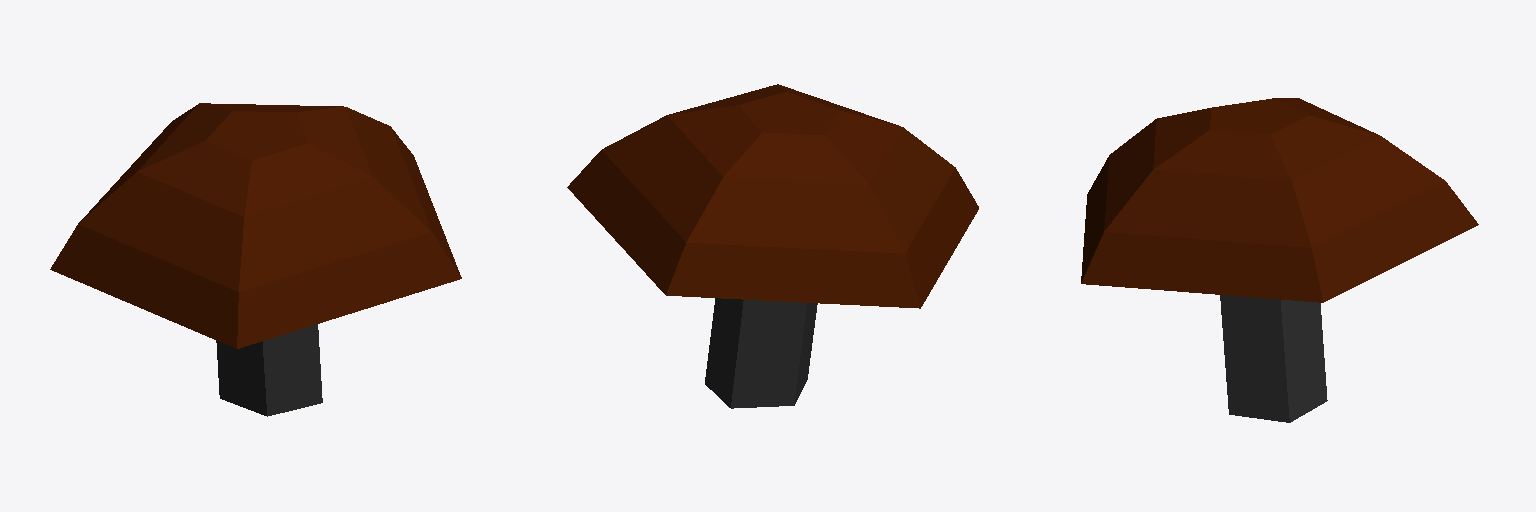
Rendered from mushroom.obj.
3 renders of one model, left to right at view 1: azimuth 30°, elevation 25°; view 2: azimuth 150°, elevation 25°; view 3: azimuth 270°, elevation 25°, orthographic.
Visible parts, largest first — view 1: mushroom; view 2: mushroom; view 3: mushroom.
Part boxes in pixels (bbox=[...]): mushroom: bbox=[50, 103, 461, 416]; mushroom: bbox=[567, 84, 978, 408]; mushroom: bbox=[1081, 98, 1478, 422].
Size of the model in its own units: 0.1257 by 0.0927 by 0.1207.